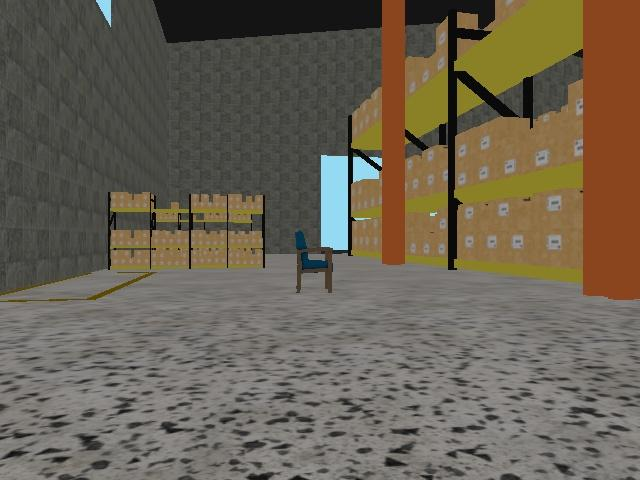chair: (293, 229, 335, 296)
